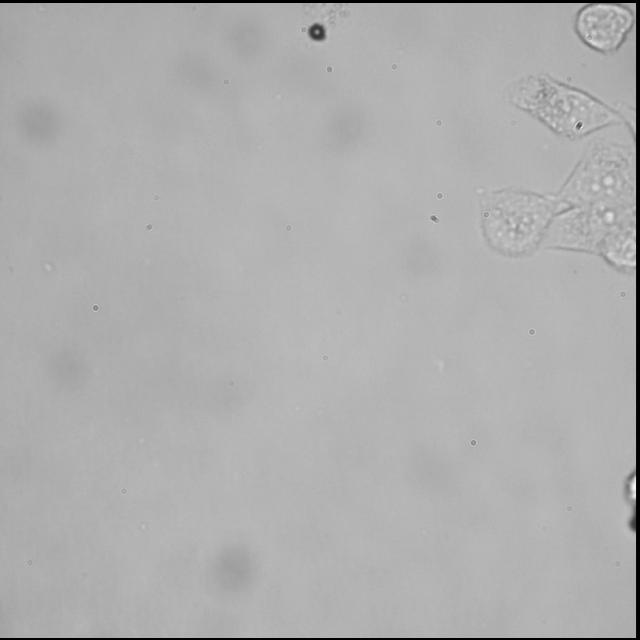microbeads: (306, 22, 328, 40)
